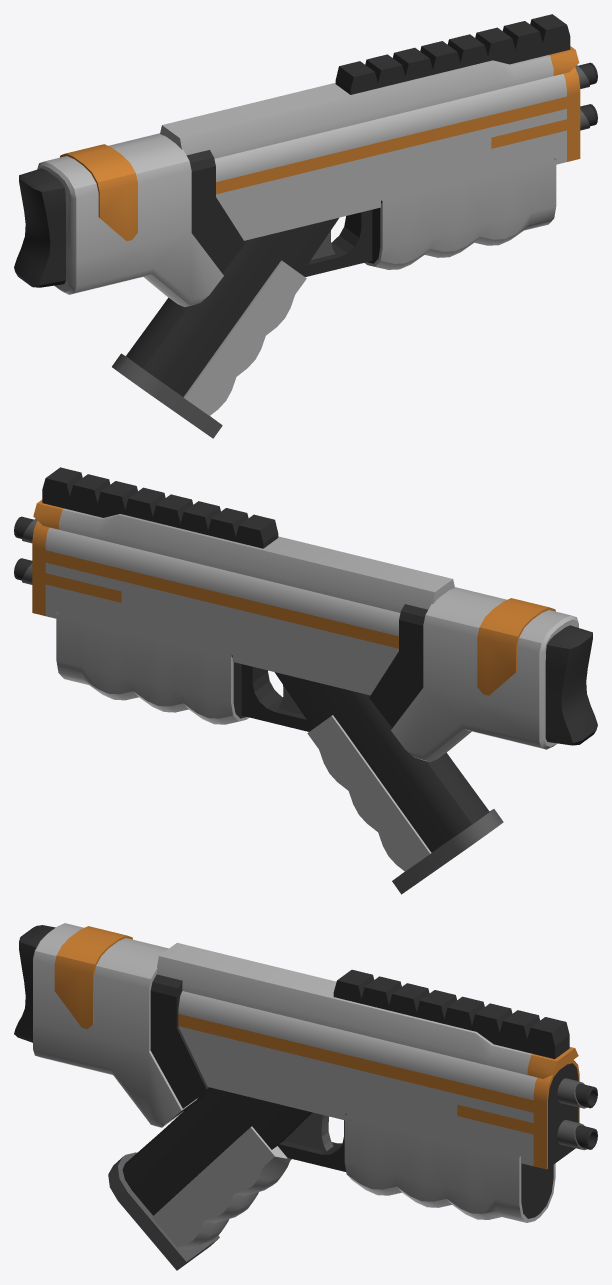
File: Pistol_3.gltf
3 renders of one model, top to bottom at view 1: azimuth 30°, elevation 25°; view 2: azimuth 150°, elevation 25°; view 3: azimuth 330°, elevation 25°, orthographic.
Parts seen in each view (by area): view 1: Pistol_3; view 2: Pistol_3; view 3: Pistol_3.
Part boxes in pixels (x1=…): Pistol_3: x1=14, y1=14, x2=597, y2=438; Pistol_3: x1=14, y1=467, x2=597, y2=894; Pistol_3: x1=14, y1=923, x2=597, y2=1270.
Size of the model in its own units: 0.9094 by 0.4864 by 0.114.
